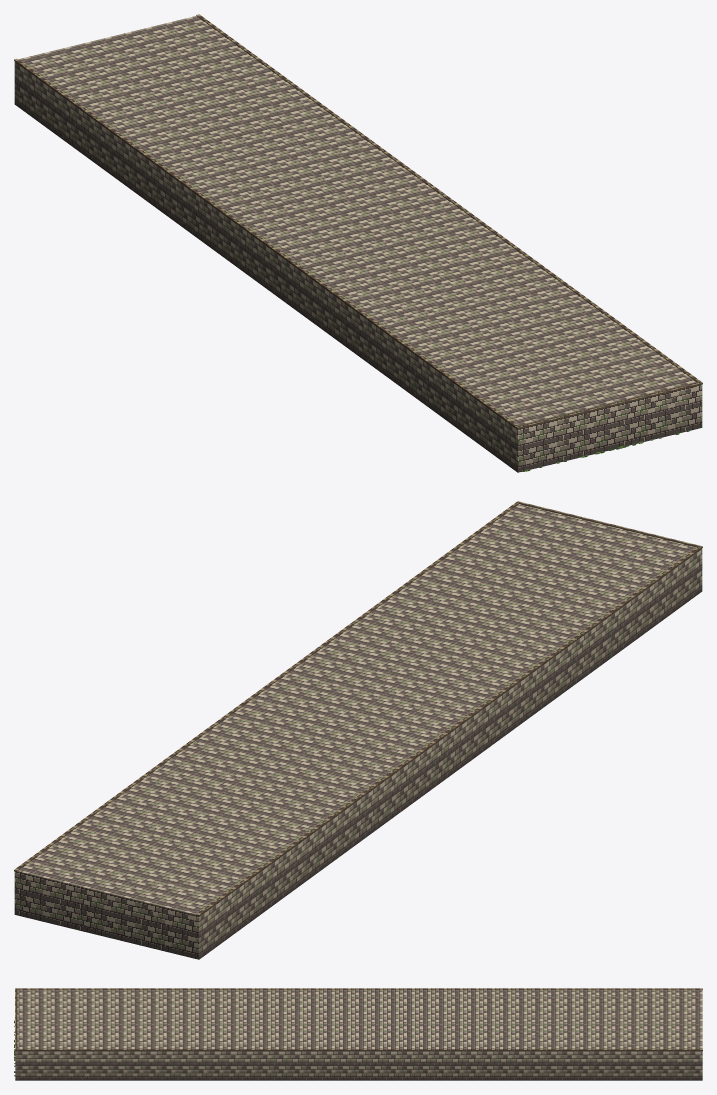
Rendered from scene_wall_e.glb.
3 views of the same model, one above another, from view 1: azimuth 30°, elevation 25°; view 2: azimuth 150°, elevation 25°; view 3: azimuth 270°, elevation 25° (orthographic). The views are drawn at different scales.
Visible parts, largest first — view 1: scene_wall_e; view 2: scene_wall_e; view 3: scene_wall_e.
Boxes of the visible parts, x1,y1,x2,y2 form: scene_wall_e: (14, 14, 702, 472); scene_wall_e: (14, 501, 702, 959); scene_wall_e: (14, 988, 702, 1080).
Bounding box in the file's own units: 21.9 × 5.17 × 103.
Materials: 2 (1 with a texture image).
